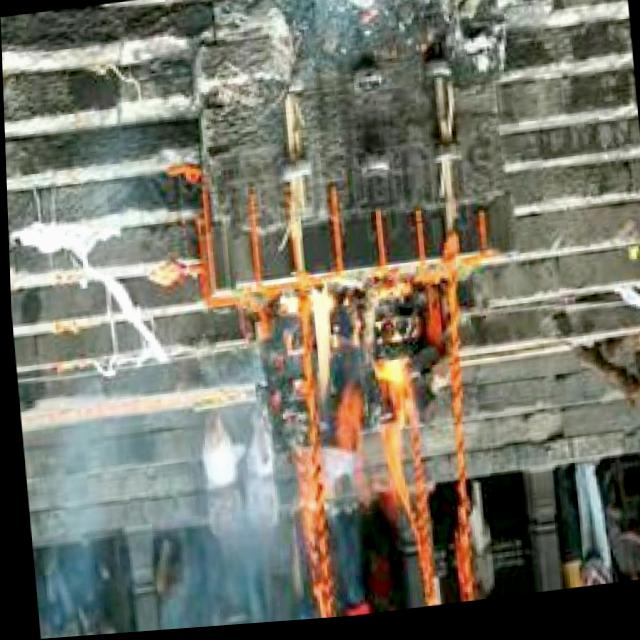helmet: (300, 270, 428, 529)
